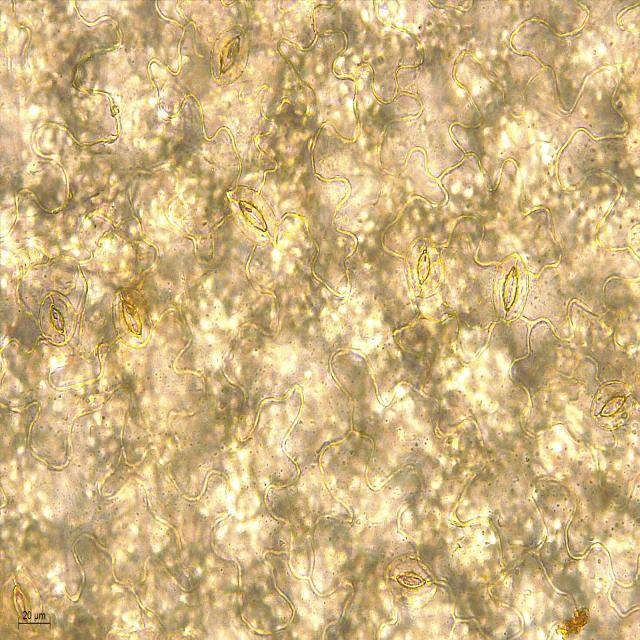Stomata: (382, 552, 442, 612), (227, 182, 279, 251), (109, 283, 154, 353), (491, 250, 532, 325), (208, 24, 252, 90), (403, 232, 444, 302), (588, 378, 638, 432), (36, 288, 80, 348)
